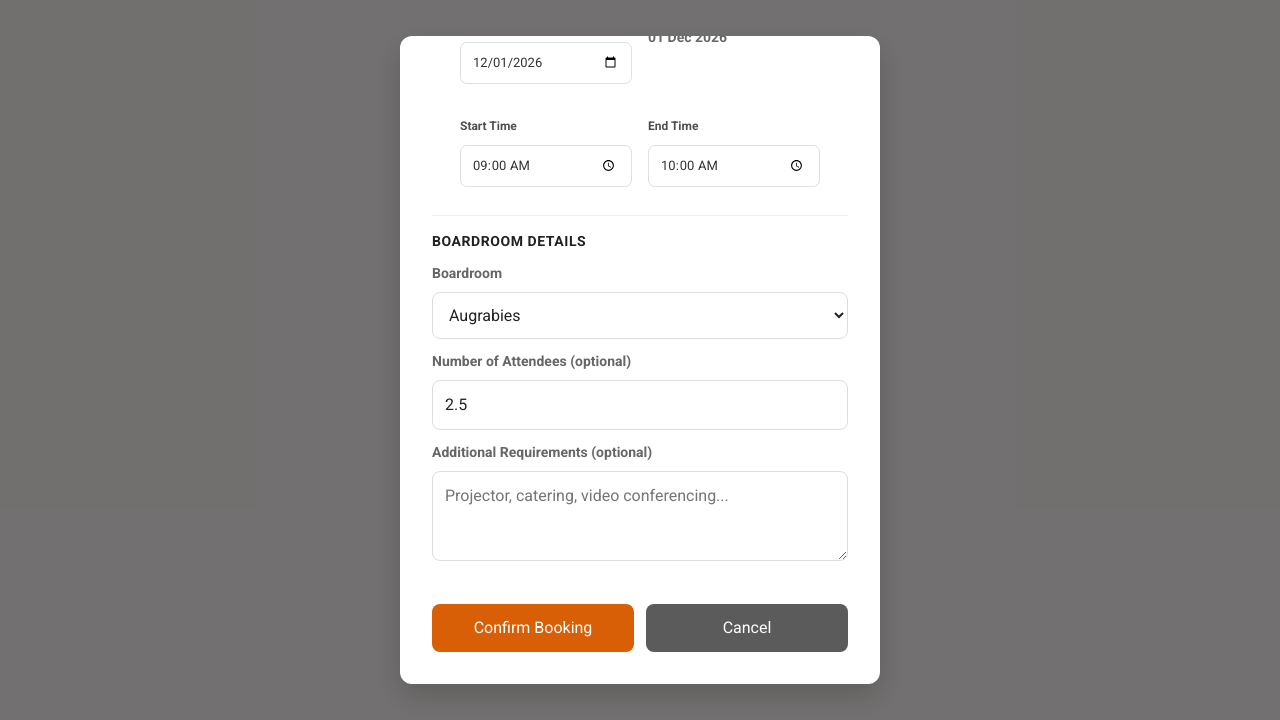
BookingModal › shows an inline validation message instead of alert() when attendees is not a positive whole number
The width and height of the screenshot is (1280, 720).
(page scrolled)
Click the button "Confirm Booking" at point(533, 628), box 432,604 -> 634,652
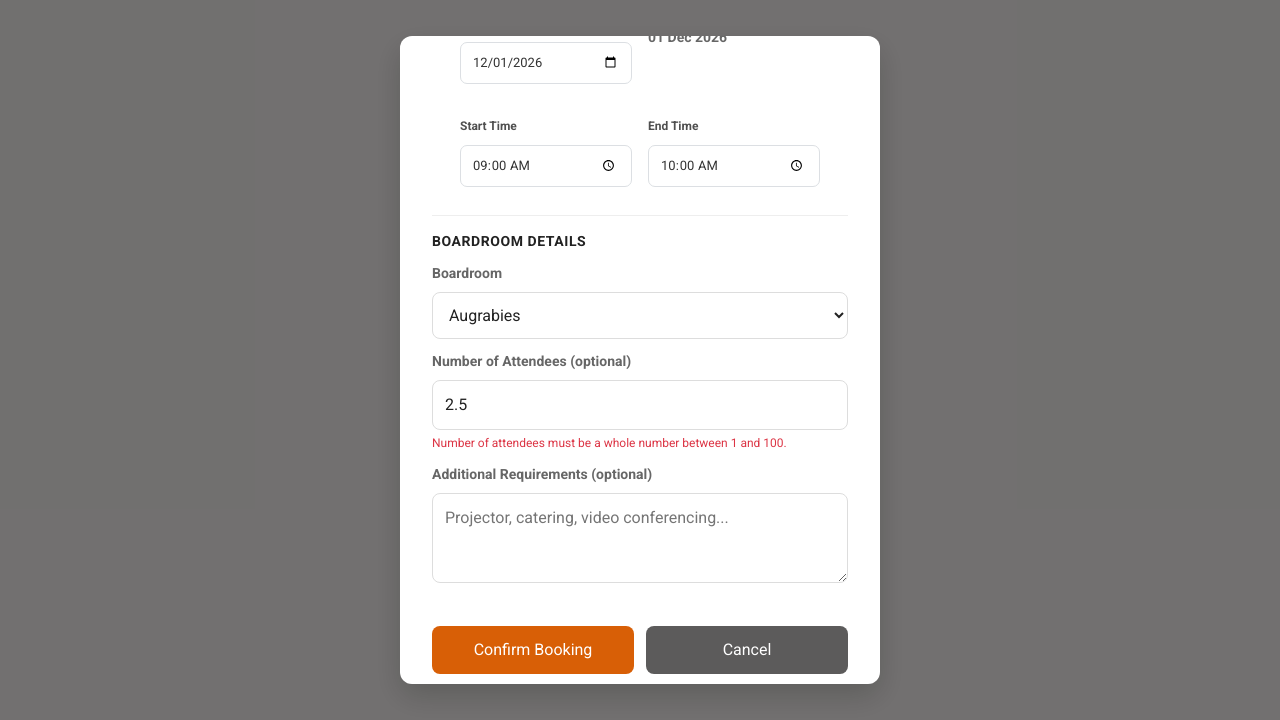
Check: the text "whole number between 1 and 100" is shown, box 432,436 -> 787,450
